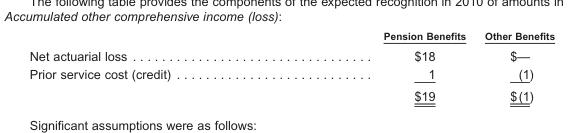table: (28, 29, 554, 102)
table column: (28, 29, 276, 102), (276, 29, 474, 102), (474, 29, 554, 102)
table column header: (28, 29, 554, 44)
table row: (28, 44, 554, 64), (28, 64, 554, 84), (28, 84, 554, 102), (28, 29, 554, 44)
